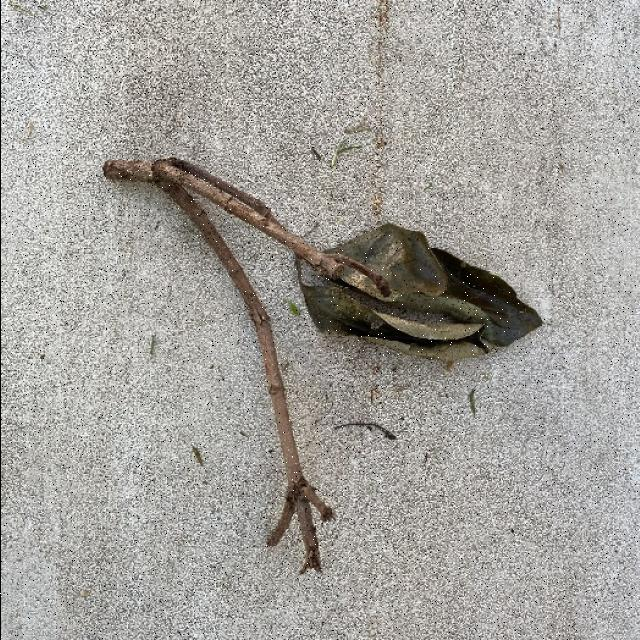organik: (105, 143, 531, 367)
